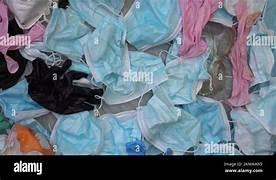Mask: (71, 1, 129, 85), (26, 58, 102, 113), (137, 87, 200, 153), (103, 51, 167, 104), (228, 0, 260, 106), (0, 1, 43, 73), (160, 42, 209, 104), (124, 0, 181, 50), (199, 22, 234, 99), (44, 8, 91, 60), (179, 0, 219, 58), (50, 111, 103, 154), (183, 97, 230, 142), (0, 80, 48, 121), (99, 111, 144, 154), (231, 108, 270, 154), (248, 21, 274, 85), (69, 0, 124, 30), (5, 124, 53, 154), (246, 90, 275, 134), (5, 0, 49, 28), (0, 50, 26, 89), (20, 42, 65, 62), (69, 0, 124, 16), (19, 42, 60, 62), (223, 0, 266, 15), (18, 119, 49, 139), (194, 143, 242, 155), (209, 7, 233, 27), (263, 0, 275, 38), (96, 0, 124, 13), (263, 0, 275, 30), (258, 77, 275, 96), (126, 140, 145, 155), (0, 0, 8, 35), (144, 140, 162, 154), (223, 0, 238, 15), (0, 112, 10, 133), (0, 134, 6, 154), (57, 0, 69, 8), (272, 136, 275, 152)
